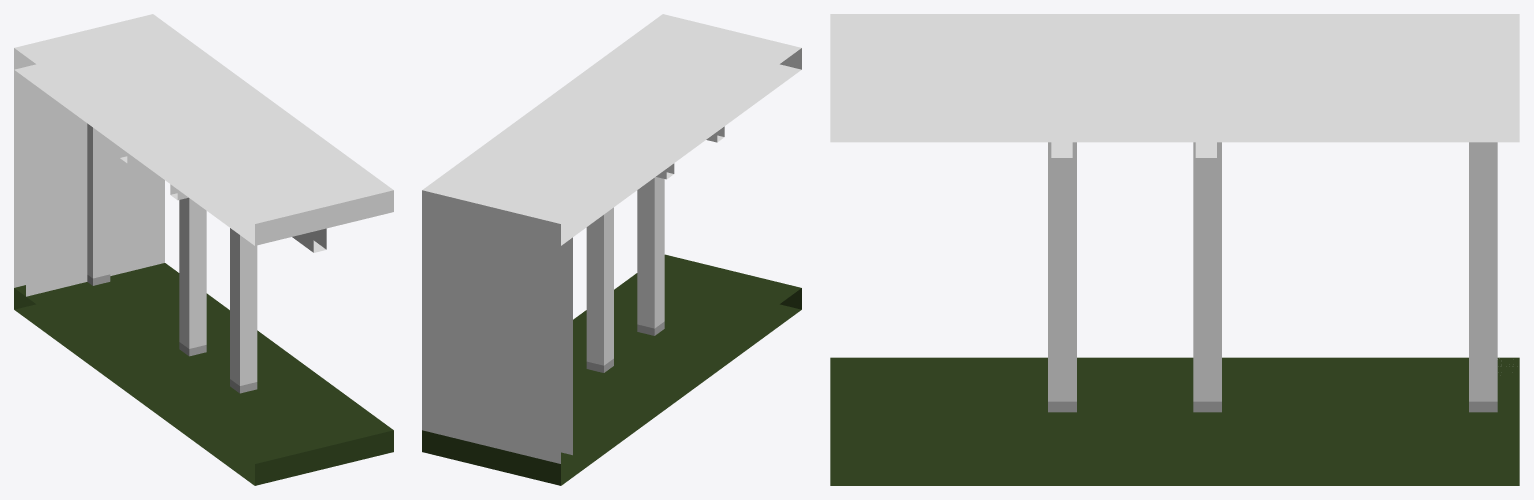
The model's file is SM_cangChu_2.fbx.
3 views of the same model, side by side, from view 1: azimuth 30°, elevation 25°; view 2: azimuth 150°, elevation 25°; view 3: azimuth 270°, elevation 25° (orthographic). The views are drawn at different scales.
Visible parts, largest first — view 1: SM_cangChu_2; view 2: SM_cangChu_2; view 3: SM_cangChu_2.
Part boxes in pixels (x1,y1,x2,y2): SM_cangChu_2: (14, 14, 393, 485); SM_cangChu_2: (422, 14, 801, 485); SM_cangChu_2: (830, 14, 1519, 485).
Bounding box in the file's own units: 4 × 7.2 × 12.
